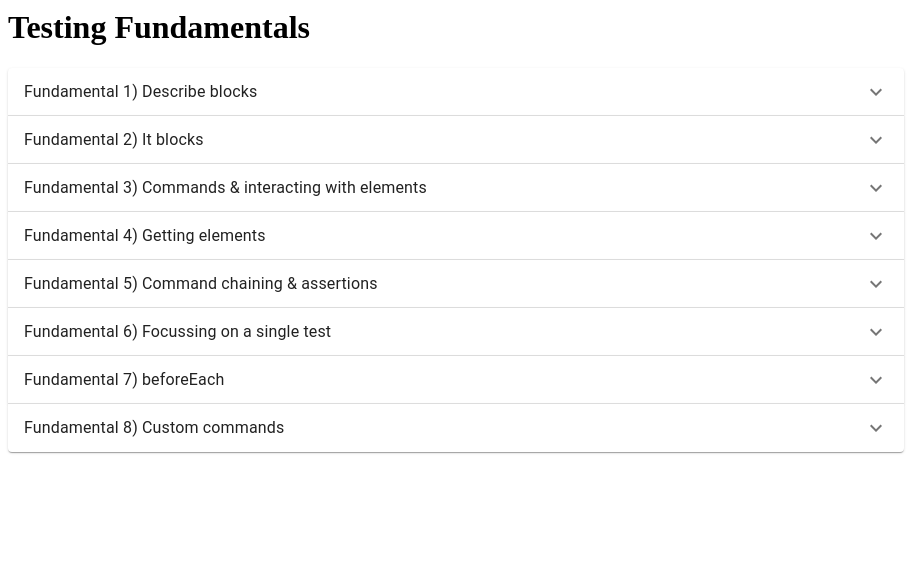
Test case: Fundamentals spec › fundamental item
Click the button "Fundamental 1) Describe blocks".
click(141, 91)  # box [24,80,888,104]
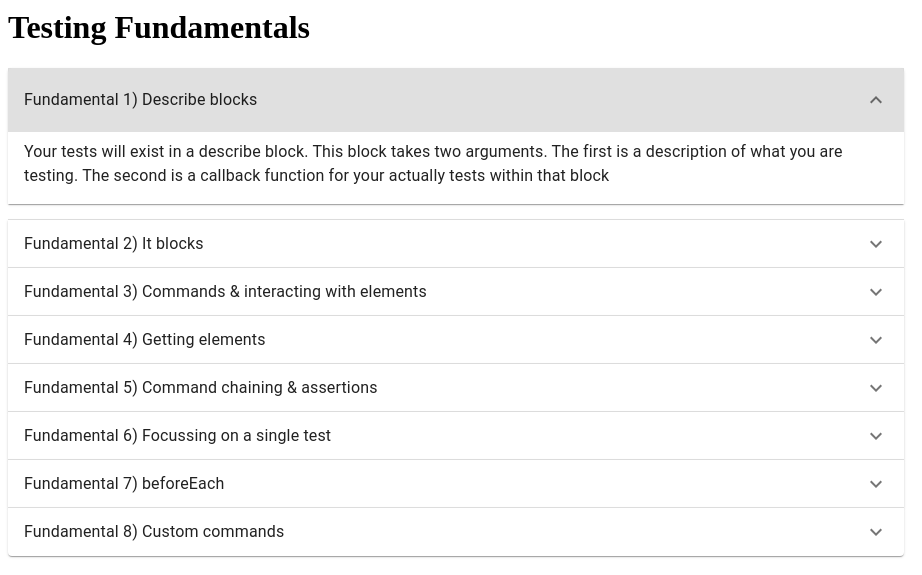
Check: the text "within that block" is shown, box [24,140,888,188]
Click the button "Fundamental 1) Describe blocks".
click(141, 99)  # box [8,68,904,132]
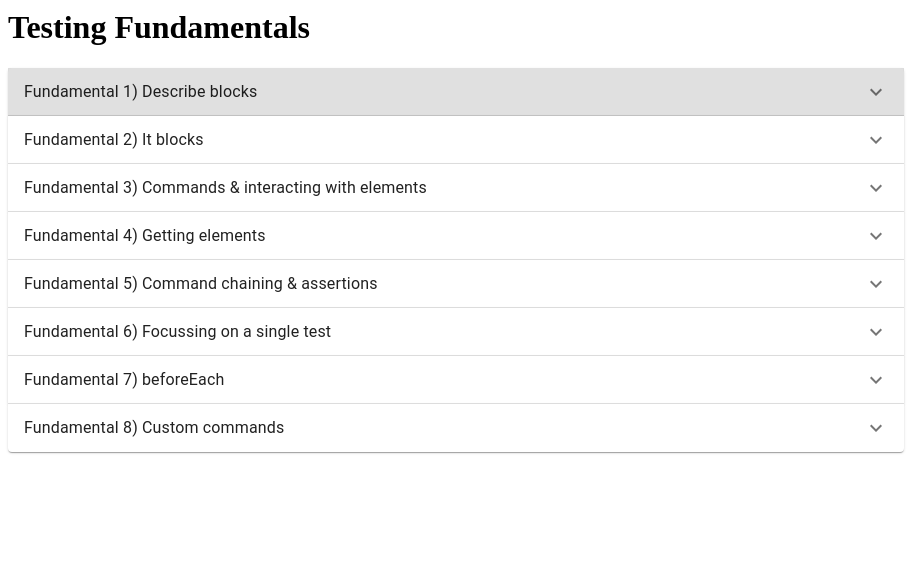
Check: the text "within that block" is gone
